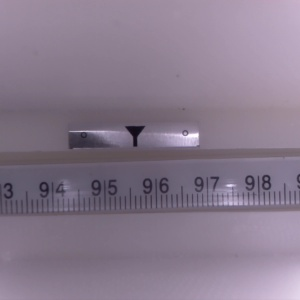3: (3, 183, 13, 199)
4: (54, 181, 65, 196)
5: (107, 179, 117, 195)
6: (158, 177, 169, 193)
7: (209, 177, 219, 191)
8: (261, 175, 270, 190)
9: (142, 177, 152, 194), (90, 180, 101, 195), (38, 183, 49, 198), (193, 177, 203, 192), (245, 176, 254, 190), (296, 173, 300, 189)
finger: (123, 125, 145, 149)
